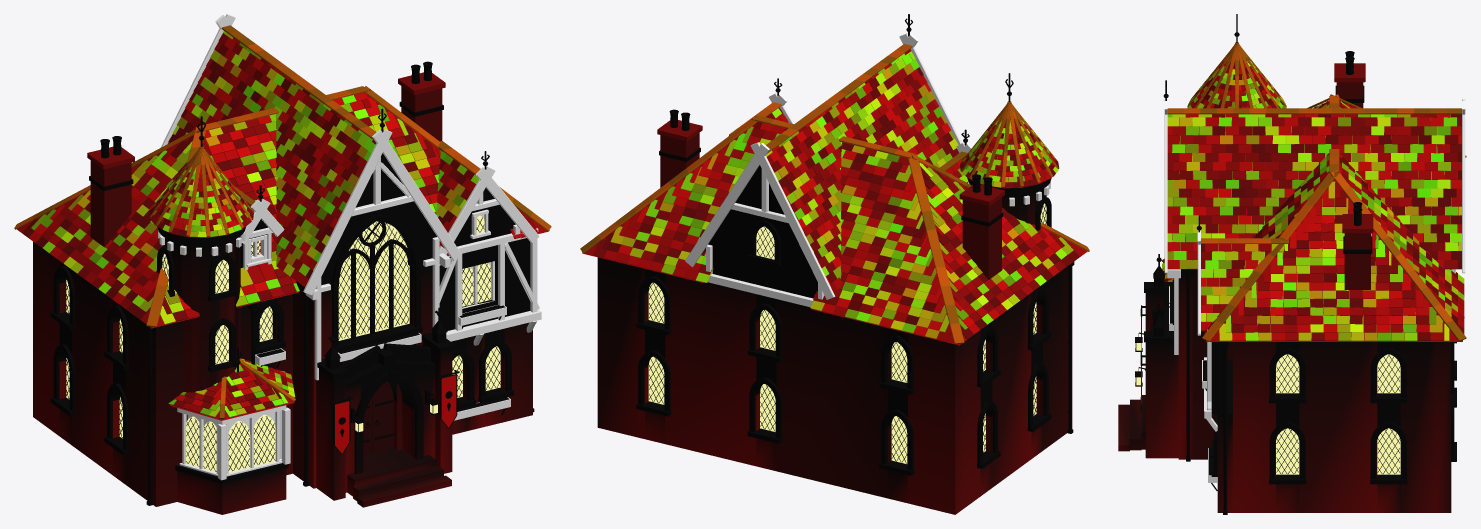
File: SilverbrookNorthridgeHouse3.fbx
The picture shows the model from 3 angles, left to right: view 1: azimuth 30°, elevation 25°; view 2: azimuth 150°, elevation 25°; view 3: azimuth 270°, elevation 25°; orthographic projection. The views are drawn at different scales.
Visible parts, largest first — view 1: SM_SBNorthridgeHouse3_Masonry, SM_SBNorthridgeHouse3_Roof, SM_SBNorthridgeHouse3_Dressed, SM_SBNorthridgeHouse3_Timber, SM_SBNorthridgeHouse3_Details; view 2: SM_SBNorthridgeHouse3_Masonry, SM_SBNorthridgeHouse3_Roof, SM_SBNorthridgeHouse3_Dressed, SM_SBNorthridgeHouse3_Details, SM_SBNorthridgeHouse3_Timber; view 3: SM_SBNorthridgeHouse3_Roof, SM_SBNorthridgeHouse3_Masonry, SM_SBNorthridgeHouse3_Dressed, SM_SBNorthridgeHouse3_Details, SM_SBNorthridgeHouse3_Timber.
Boxes of the visible parts, bbox=[...] form: SM_SBNorthridgeHouse3_Masonry: bbox=[33, 86, 532, 514]; SM_SBNorthridgeHouse3_Roof: bbox=[14, 25, 551, 420]; SM_SBNorthridgeHouse3_Dressed: bbox=[50, 72, 513, 507]; SM_SBNorthridgeHouse3_Timber: bbox=[158, 14, 541, 480]; SM_SBNorthridgeHouse3_Details: bbox=[66, 61, 534, 505]; SM_SBNorthridgeHouse3_Masonry: bbox=[597, 133, 1072, 514]; SM_SBNorthridgeHouse3_Roof: bbox=[580, 44, 1089, 345]; SM_SBNorthridgeHouse3_Dressed: bbox=[636, 120, 1051, 475]; SM_SBNorthridgeHouse3_Details: bbox=[648, 14, 1074, 463]; SM_SBNorthridgeHouse3_Timber: bbox=[685, 33, 1050, 307]; SM_SBNorthridgeHouse3_Roof: bbox=[1161, 42, 1466, 341]; SM_SBNorthridgeHouse3_Masonry: bbox=[1178, 82, 1451, 512]; SM_SBNorthridgeHouse3_Dressed: bbox=[1118, 63, 1456, 484]; SM_SBNorthridgeHouse3_Details: bbox=[1135, 14, 1400, 514]; SM_SBNorthridgeHouse3_Timber: bbox=[1164, 99, 1465, 482].
Bounding box in the file's own units: 1140 × 992 × 895.
